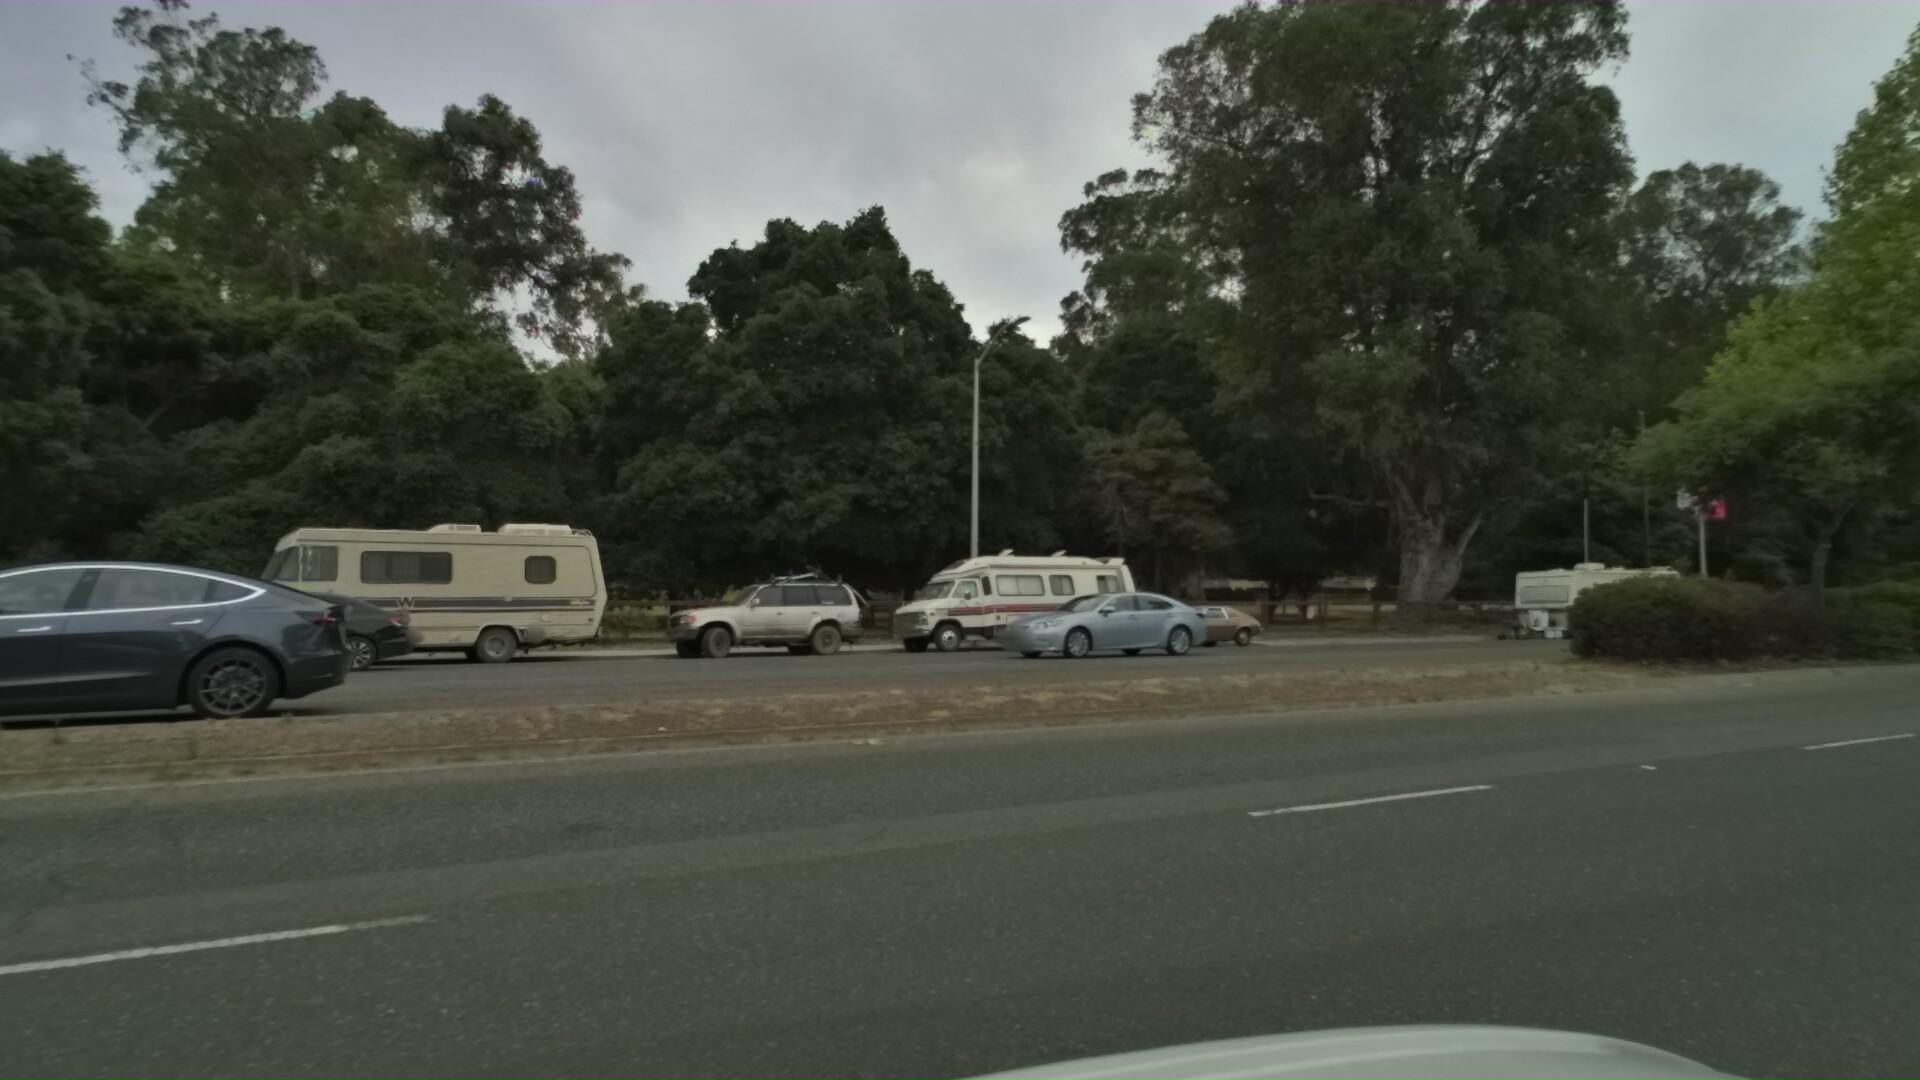car: (30, 582, 367, 684), (630, 551, 866, 659), (942, 578, 1174, 663), (1105, 596, 1251, 651)
other_vehicle: (193, 496, 601, 663), (864, 534, 1131, 651), (1494, 550, 1680, 636)
